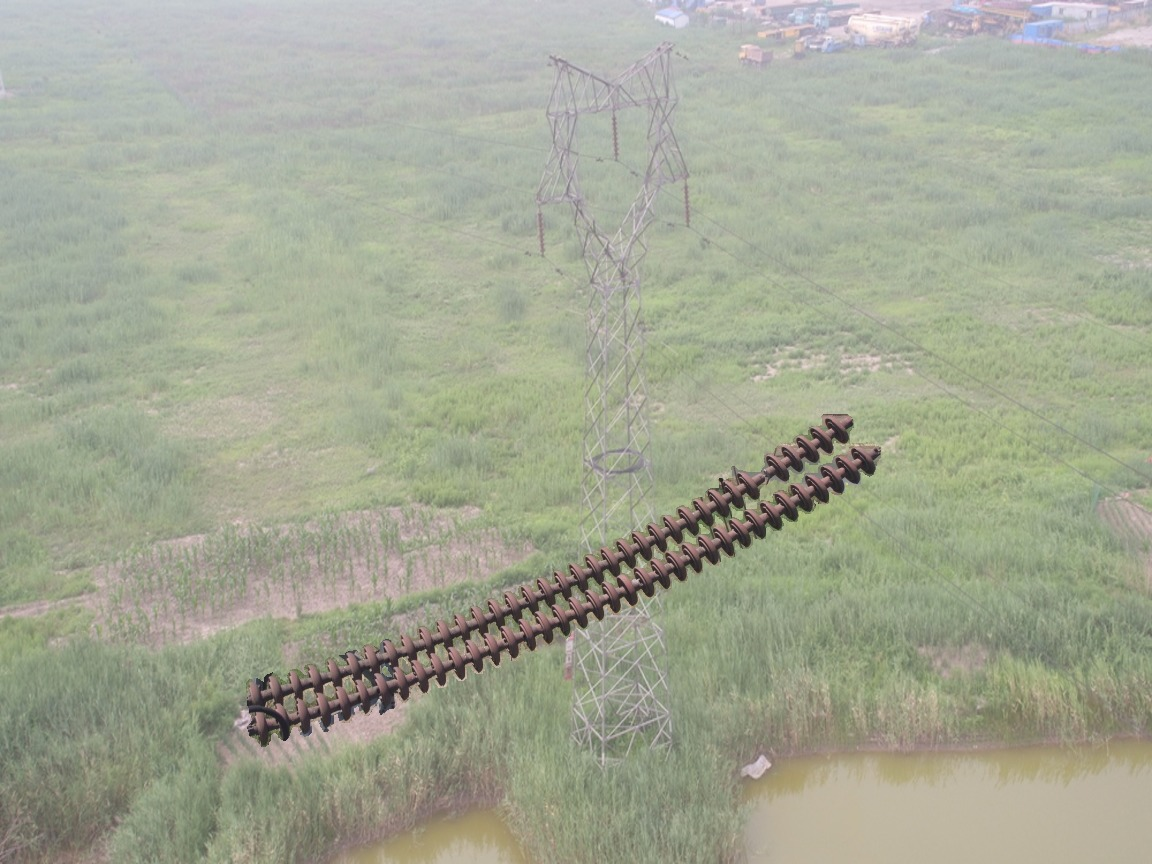defect: (729, 452, 791, 500)
